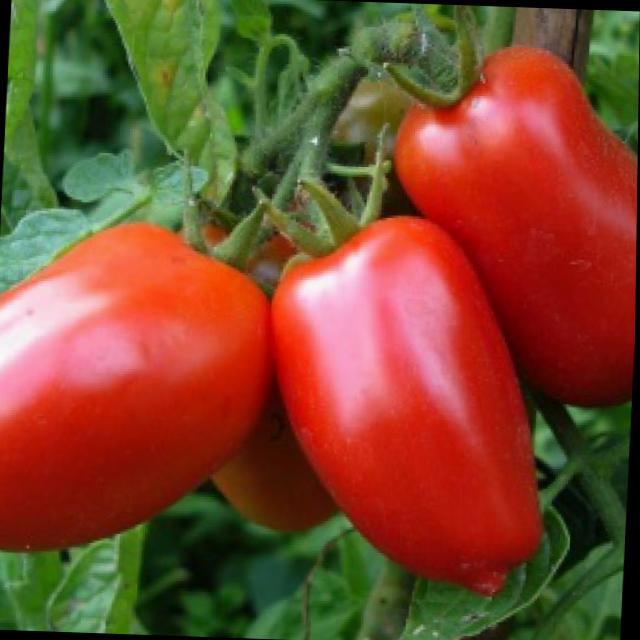tomato: (258, 211, 559, 601), (0, 221, 280, 561), (382, 43, 639, 409)
